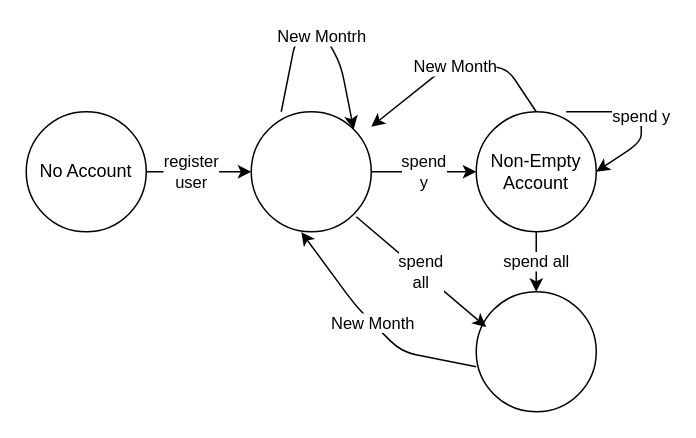
The diagram is 696 pixels wide and 438 high, and some of its shapes have lost their labels. Here are the shapes that lost their labels. From the top down, the centre of each, then its label:
At (310,171): "Max Account, x".
At (535,351): "Empty Account".
